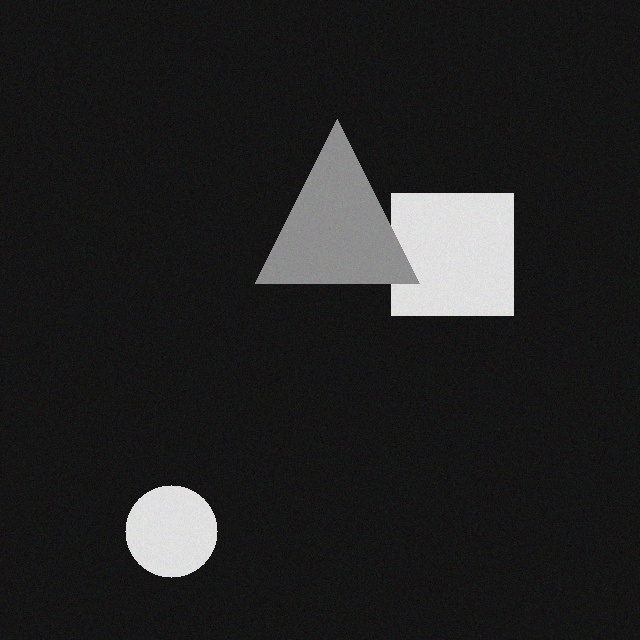circle: (138, 492, 230, 584)
square: (404, 200, 526, 322)
triangle: (268, 126, 432, 290)
